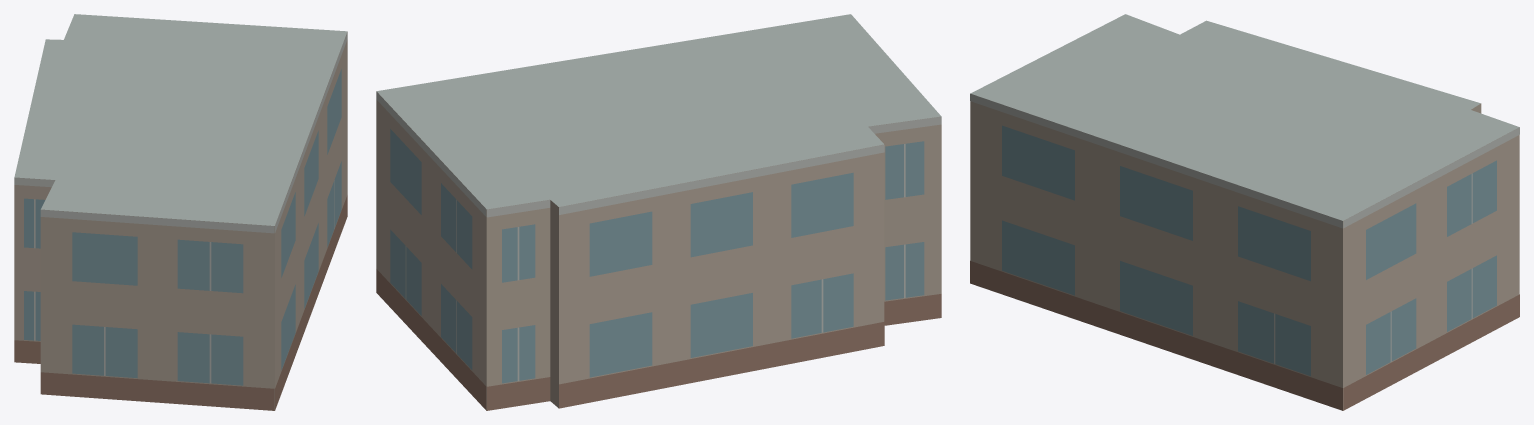
File: survey-upis-32533570.glb
3 renders of one model, left to right at view 1: azimuth 30°, elevation 25°; view 2: azimuth 150°, elevation 25°; view 3: azimuth 270°, elevation 25°, orthographic. The views are drawn at different scales.
Parts seen in each view (by area): view 1: survey-upis-32533570.tmp; view 2: survey-upis-32533570.tmp; view 3: survey-upis-32533570.tmp.
Boxes of the visible parts, x1,y1,x2,y2 form: survey-upis-32533570.tmp: (14,14,347,410); survey-upis-32533570.tmp: (376,14,941,410); survey-upis-32533570.tmp: (970,14,1519,410).
Size of the model in its own units: 14.27 by 6.1 by 16.
